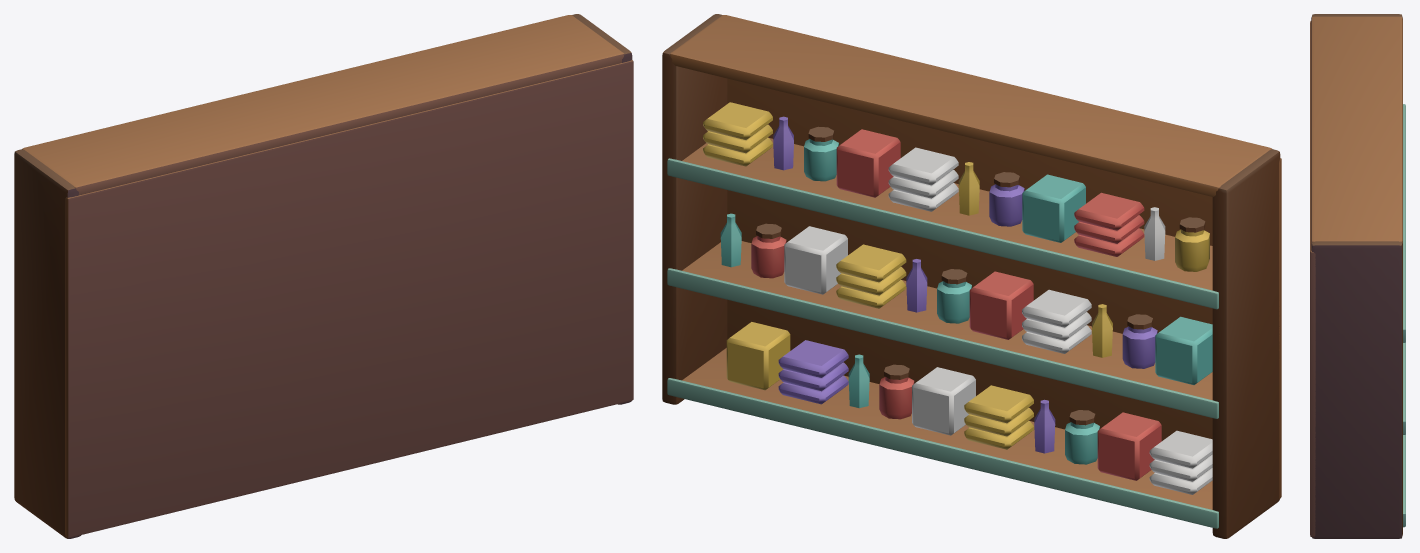
Rendered from ShopShelf.fbx.
The picture shows the model from 3 angles, left to right: view 1: azimuth 30°, elevation 25°; view 2: azimuth 150°, elevation 25°; view 3: azimuth 270°, elevation 25°; orthographic projection. The views are drawn at different scales.
Parts seen in each view (by area): view 1: SM_Shop_Shelf; view 2: SM_Shop_Shelf; view 3: SM_Shop_Shelf.
Part boxes in pixels (x1,y1,x2,y2): SM_Shop_Shelf: [14, 14, 633, 538]; SM_Shop_Shelf: [662, 14, 1281, 538]; SM_Shop_Shelf: [1310, 14, 1405, 538].
Bounding box in the file's own units: 10.8 × 6.41 × 1.89.
